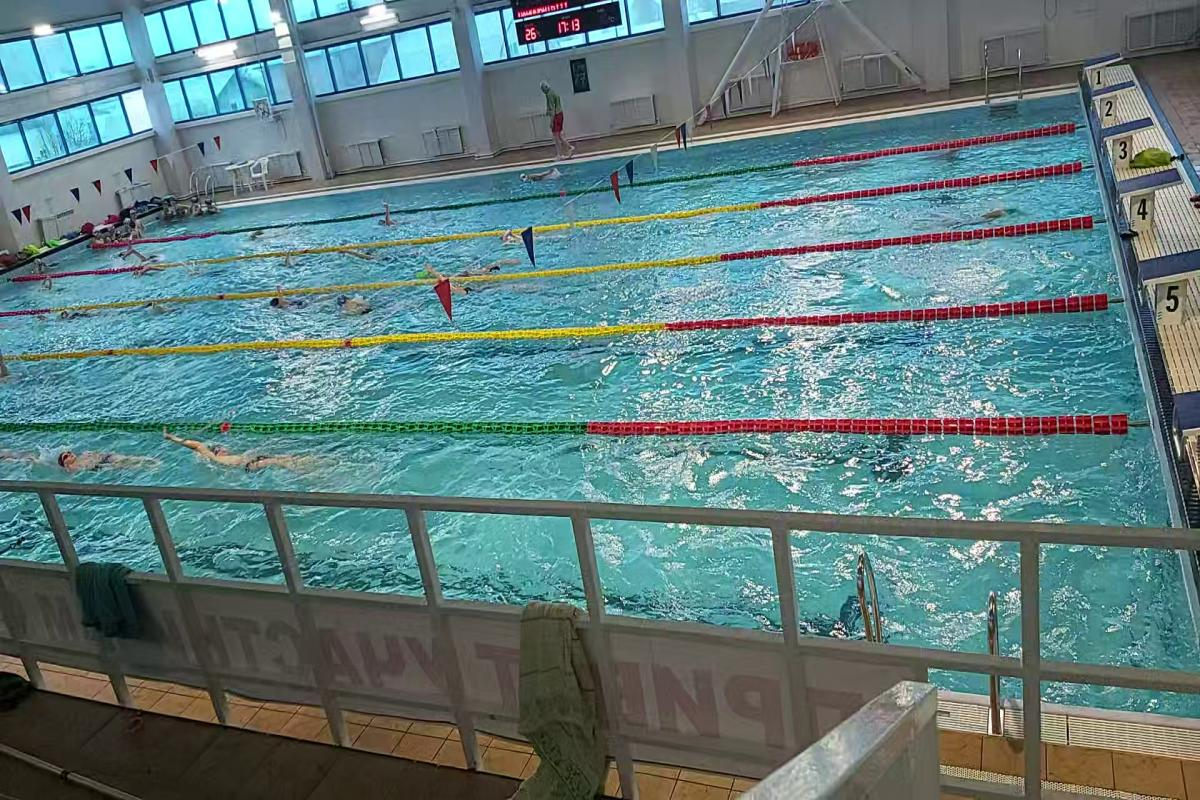swimmer: (162, 436, 332, 480), (33, 433, 153, 477), (38, 303, 96, 325), (267, 285, 313, 311), (371, 199, 411, 227), (338, 293, 382, 317)
